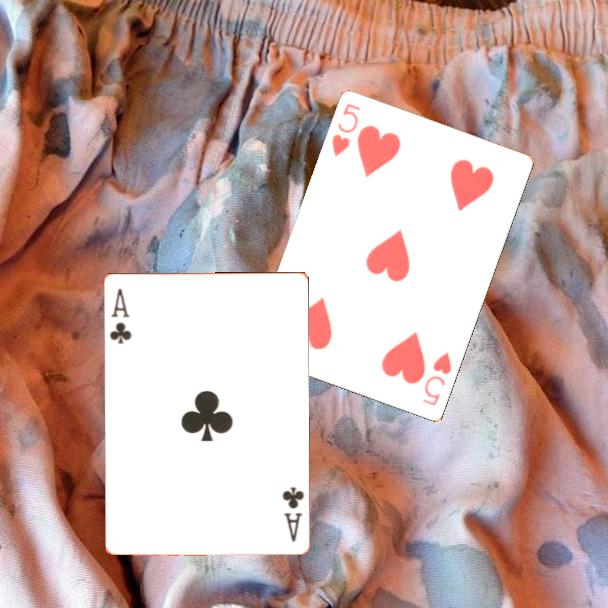c01: (278, 483, 307, 544), (106, 285, 134, 346)
h05: (419, 349, 455, 409), (328, 100, 363, 160)
